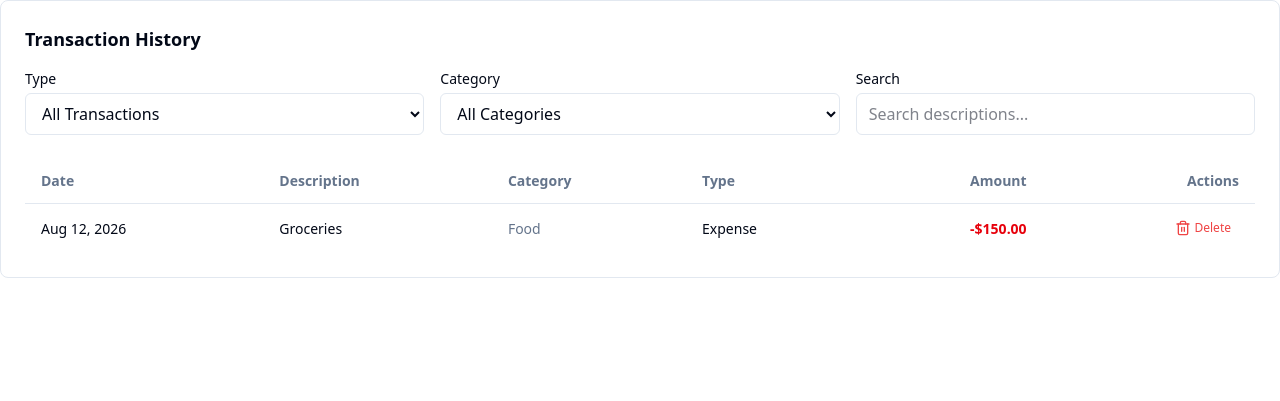
Test: TransactionHistory › shows no matches message when filters return no results
Apply a filter that will return no results
Step 1. Select "Income" in the dropdown labelled "Type" → (225, 114), box top-left (25, 93), bottom-right (424, 135)
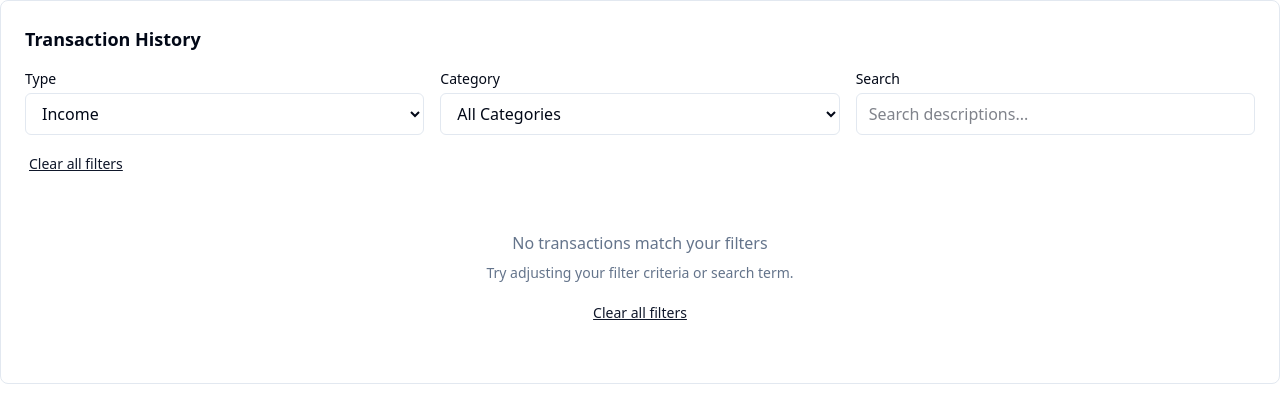
Now the text "No transactions match your filters" is shown, box top-left (512, 232), bottom-right (768, 254)
